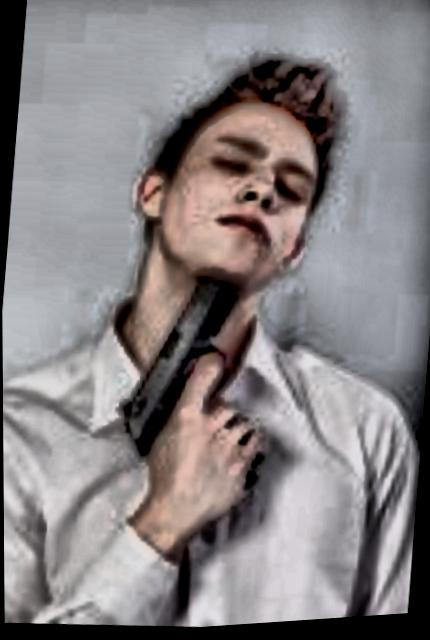pistol: (104, 255, 280, 505)
